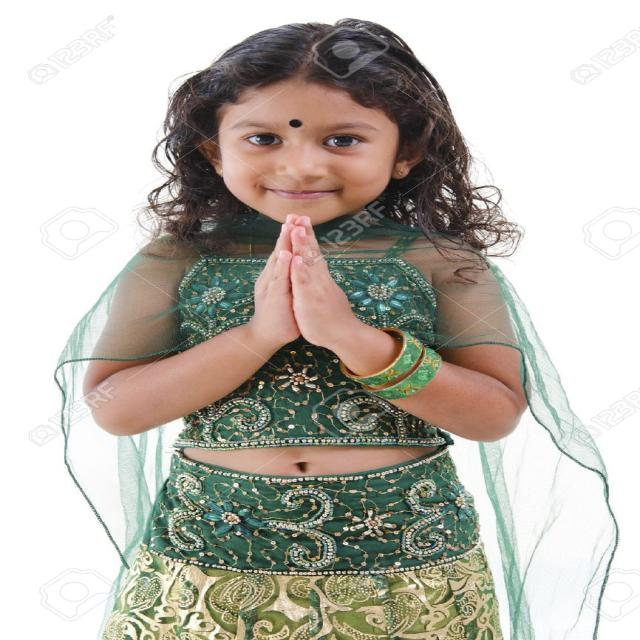child: (50, 13, 629, 640)
